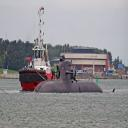submarine: (34, 61, 117, 95)
